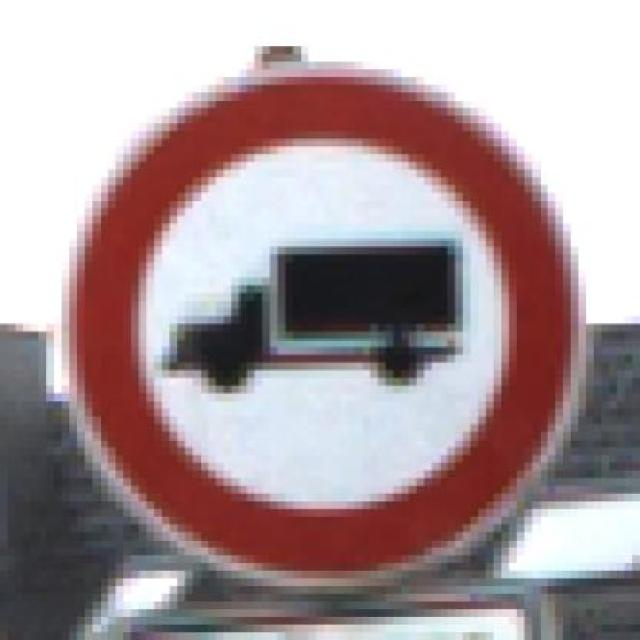Truck traffic is prohibited: (31, 46, 594, 617)
